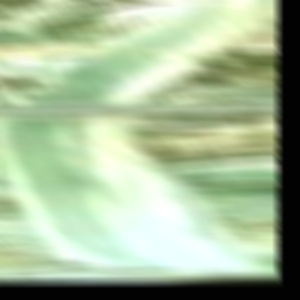Leaf_Blast: (6, 17, 186, 276)
